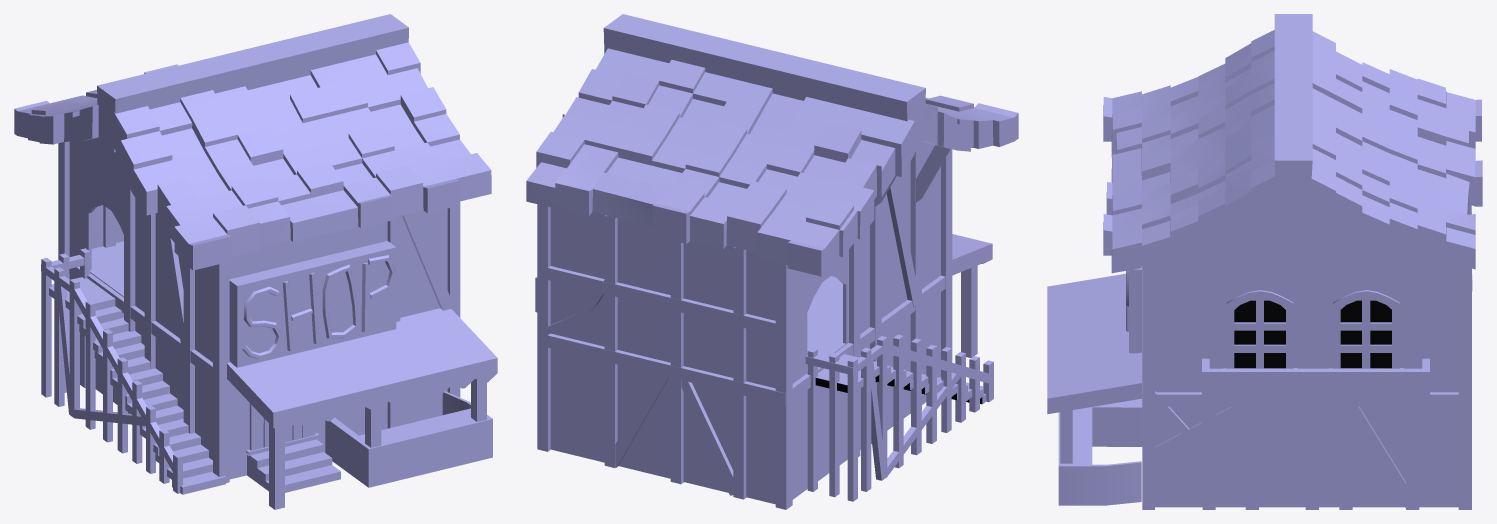
Rendered from shop(1).fbx.
The picture shows the model from 3 angles, left to right: view 1: azimuth 30°, elevation 25°; view 2: azimuth 150°, elevation 25°; view 3: azimuth 270°, elevation 25°; orthographic projection. The views are drawn at different scales.
Parts seen in each view (by area): view 1: 对象041, Box236, Box219, 对象047, Box218, 对象040, Box224, Box226, Box217, Line007, Box220, 对象029 (+5 smaller); view 2: 对象041, Box236, 对象047, Box217, 对象040, 对象042, 对象035, Box226, Box220, Box219; view 3: 对象041, 对象047, Box236, Box217, Box219, Box223, 对象040, Box224, 对象042, 对象060, 对象048, Box218 (+1 smaller).
Boxes of the visible parts, bbox=[...] form: 对象041: bbox=[14, 42, 491, 270]; Box236: bbox=[41, 141, 460, 493]; Box219: bbox=[227, 308, 497, 432]; 对象047: bbox=[69, 137, 447, 361]; Box218: bbox=[229, 241, 396, 367]; 对象040: bbox=[97, 14, 408, 152]; Box224: bbox=[325, 391, 492, 487]; Box226: bbox=[49, 277, 225, 494]; Box217: bbox=[69, 274, 447, 458]; Line007: bbox=[242, 255, 395, 359]; Box220: bbox=[269, 378, 486, 509]; 对象029: bbox=[246, 403, 319, 455]; 对象041: bbox=[526, 48, 1018, 276]; Box236: bbox=[537, 145, 993, 509]; 对象047: bbox=[550, 142, 940, 387]; Box217: bbox=[550, 292, 940, 482]; 对象040: bbox=[603, 14, 925, 151]; 对象042: bbox=[550, 370, 940, 504]; 对象035: bbox=[551, 274, 940, 388]; Box226: bbox=[815, 354, 986, 404]; Box220: bbox=[961, 265, 977, 357]; Box219: bbox=[952, 234, 992, 275]; 对象041: bbox=[1103, 30, 1482, 273]; 对象047: bbox=[1155, 210, 1458, 391]; Box236: bbox=[1142, 204, 1472, 509]; Box217: bbox=[1155, 406, 1458, 485]; Box219: bbox=[1047, 273, 1142, 414]; Box223: bbox=[1202, 358, 1429, 405]; 对象040: bbox=[1274, 14, 1312, 216]; Box224: bbox=[1058, 404, 1142, 505]; 对象042: bbox=[1155, 486, 1458, 507]; 对象060: bbox=[1223, 290, 1297, 368]; 对象048: bbox=[1329, 290, 1403, 368]; Box218: bbox=[1129, 266, 1141, 353].
Bounding box in the file's own units: 582 × 627 × 695.
